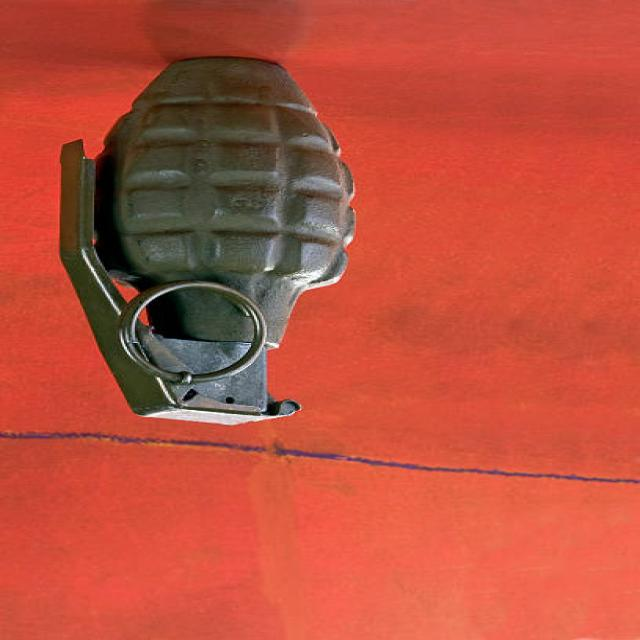grenade: (44, 53, 370, 441)
